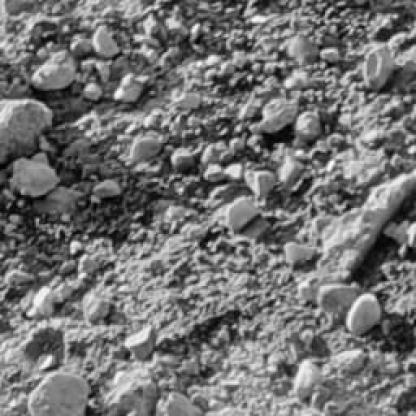cementitious_debris: (1, 0, 413, 414)
